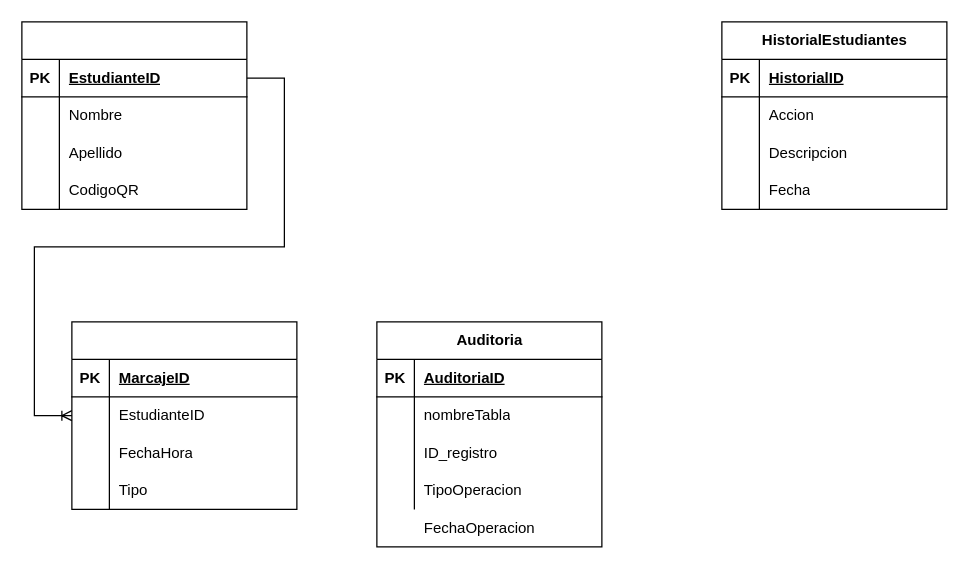
This 969x569 diagram has some shape labels left out. The shapes that lost their labels are listed below. From the top down, each one's box as (x1, y1, x2, y2) in pixels, then its label:
(21, 21, 247, 209): Estudiantes
(71, 321, 297, 509): Marcajes
